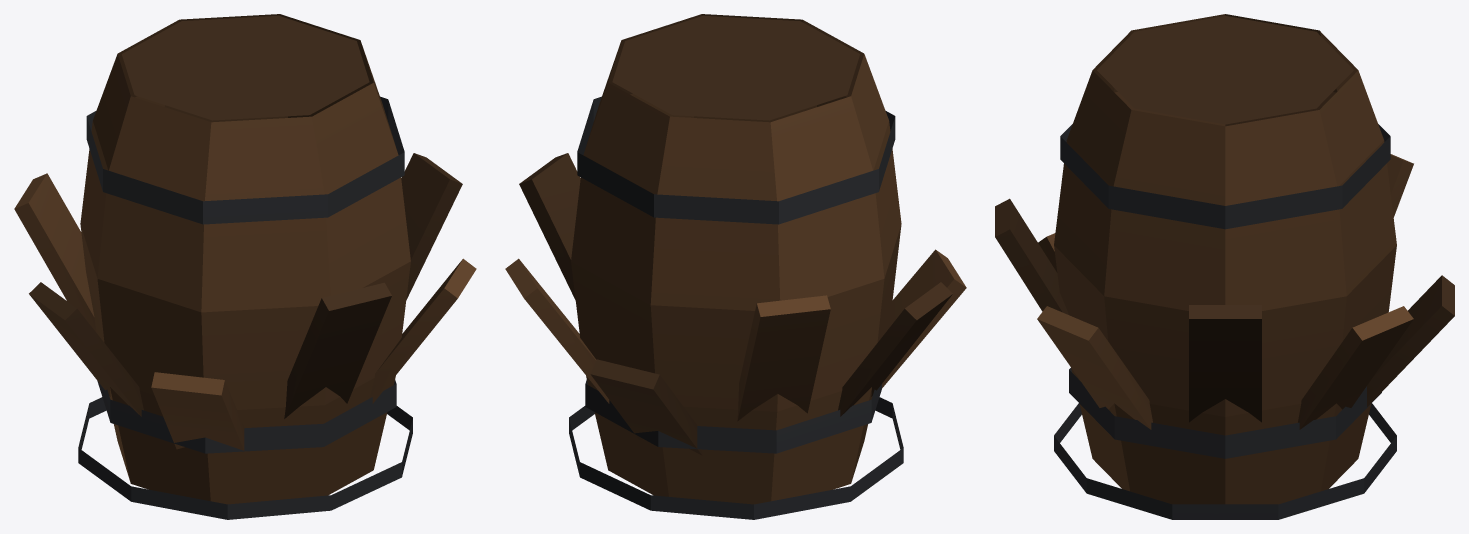
File: kit_barrel.glb
3 views of the same model, side by side, from view 1: azimuth 30°, elevation 25°; view 2: azimuth 150°, elevation 25°; view 3: azimuth 270°, elevation 25° (orthographic).
Parts seen in each view (by area): view 1: barrel_whole, barrel_broken; view 2: barrel_whole, barrel_broken; view 3: barrel_whole, barrel_broken.
Boxes of the visible parts, x1,y1,x2,y2 form: barrel_whole: [80, 14, 410, 504]; barrel_broken: [14, 153, 476, 519]; barrel_whole: [571, 14, 901, 504]; barrel_broken: [505, 153, 966, 519]; barrel_whole: [1054, 14, 1396, 504]; barrel_broken: [995, 154, 1454, 519].
Bounding box in the file's own units: 3.22 × 3 × 3.22.
